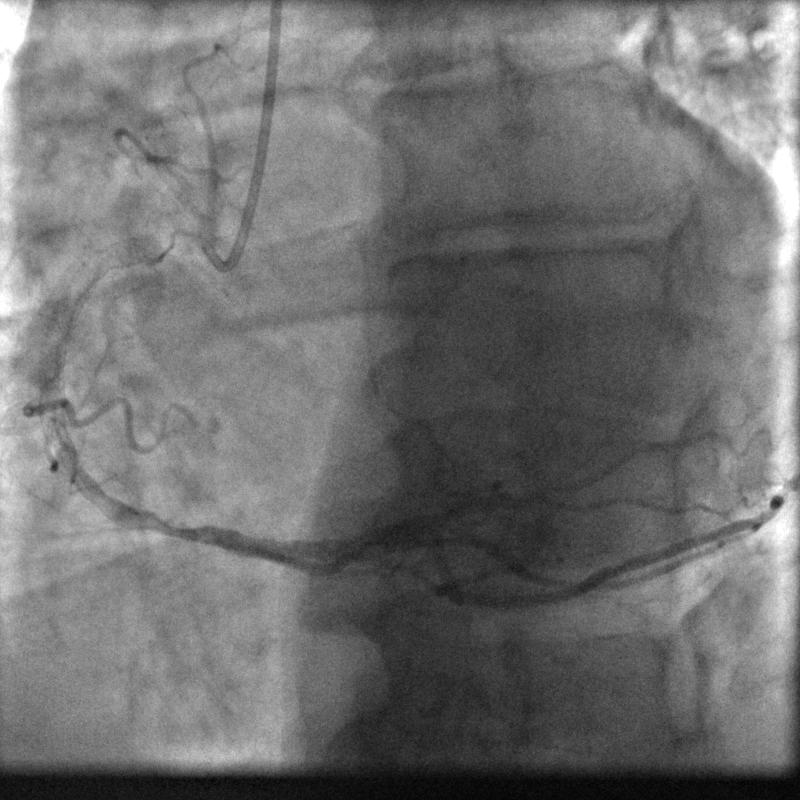Stenosis: (141, 509, 203, 543)
